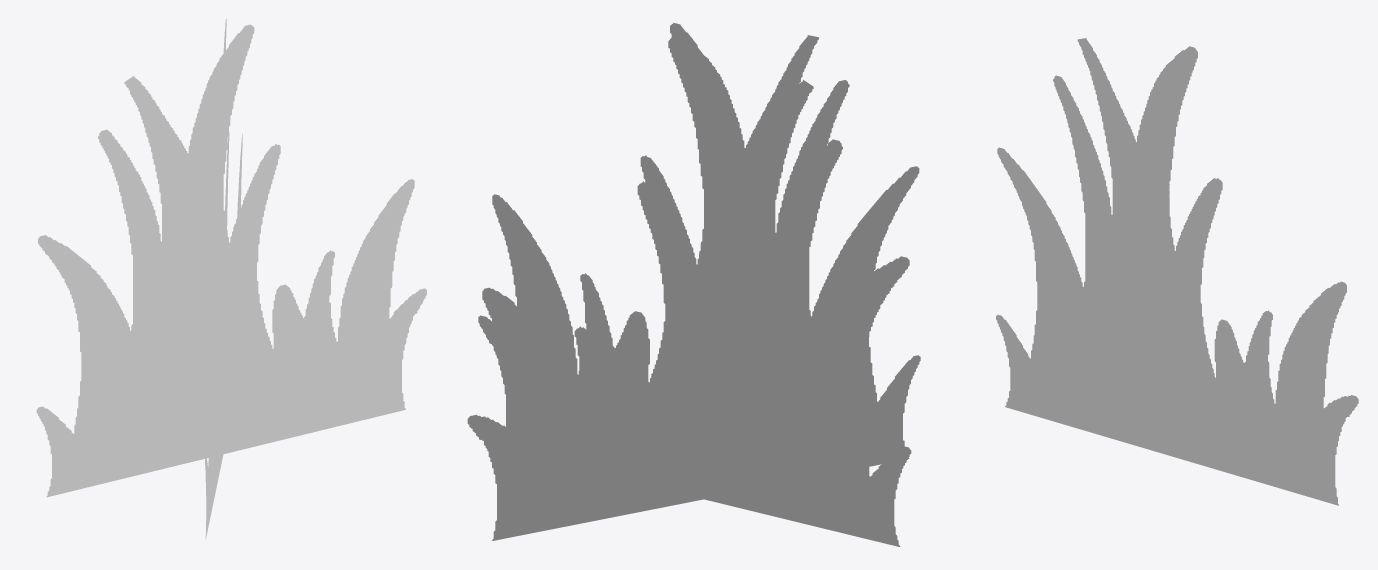
File: cao01_Normal.FBX
The picture shows the model from 3 angles, left to right: view 1: azimuth 30°, elevation 25°; view 2: azimuth 150°, elevation 25°; view 3: azimuth 270°, elevation 25°; orthographic projection. The views are drawn at different scales.
Parts seen in each view (by area): view 1: cao01a; view 2: cao01a; view 3: cao01a.
Part boxes in pixels (box(x1,y1,x2,y2)): cao01a: box(36, 18, 426, 539); cao01a: box(467, 23, 920, 546); cao01a: box(996, 38, 1358, 505).
Bounding box in the file's own units: 26.96 × 22.09 × 26.96.
